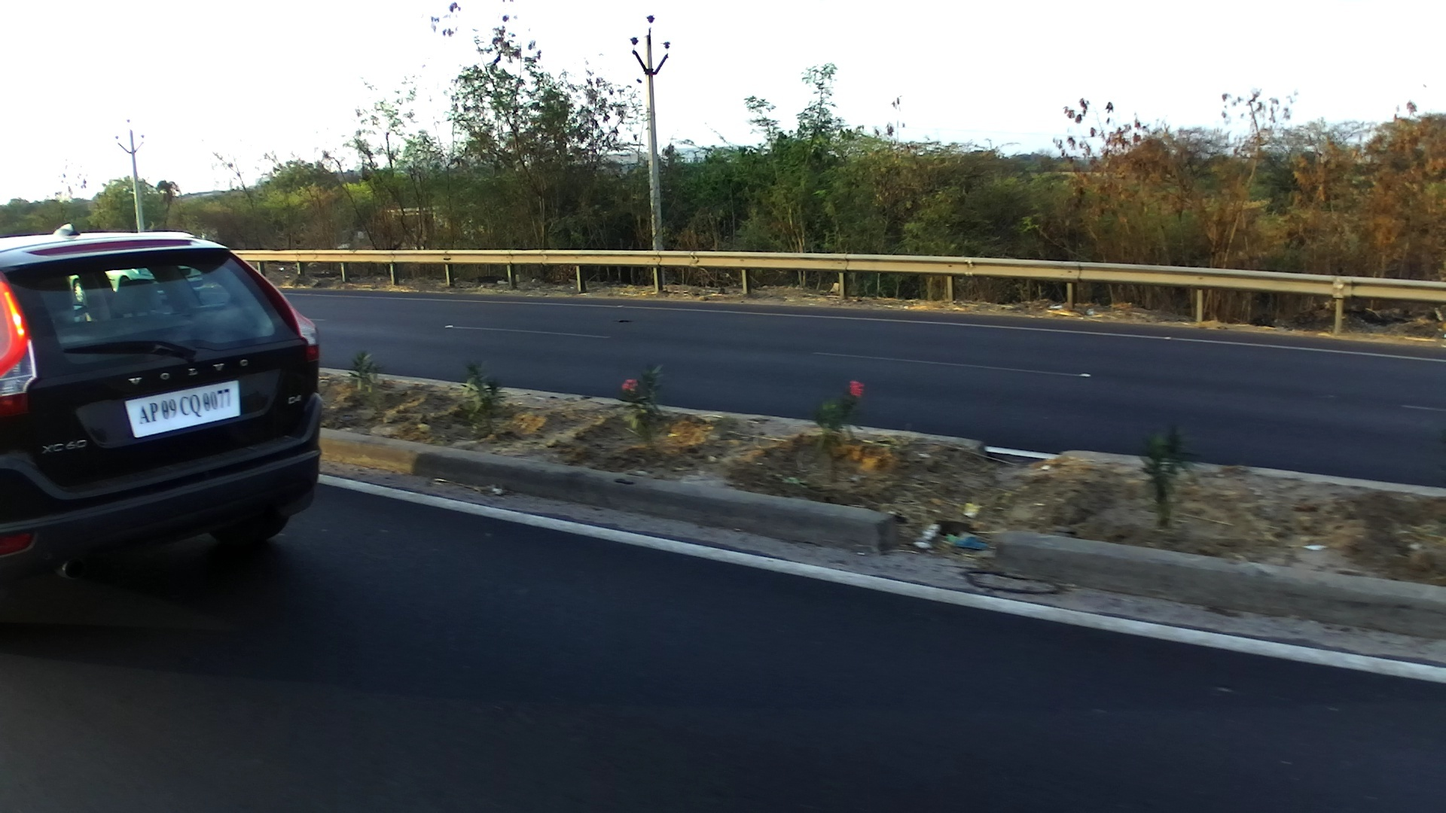car: (1, 224, 322, 580)
